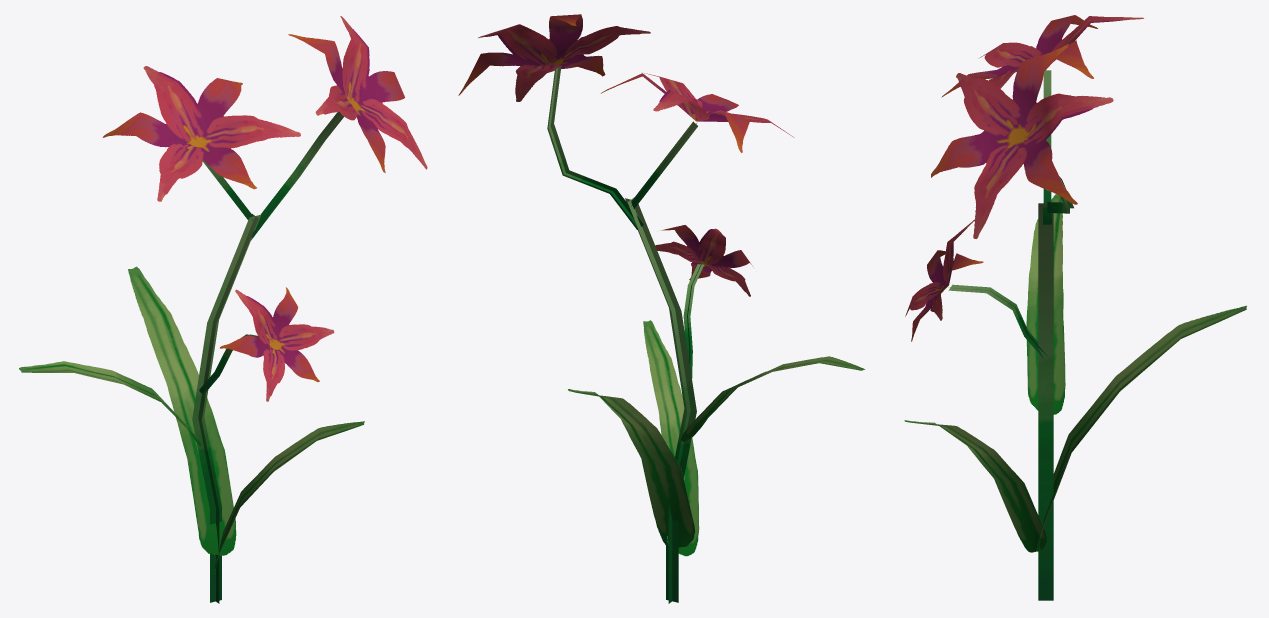
Rendered from SM_FireFlowers_Solo.fbx.
3 views of the same model, side by side, from view 1: azimuth 30°, elevation 25°; view 2: azimuth 150°, elevation 25°; view 3: azimuth 270°, elevation 25° (orthographic). The views are drawn at different scales.
Parts seen in each view (by area): view 1: Firesolo; view 2: Firesolo; view 3: Firesolo.
Part boxes in pixels (bbox=[...]): Firesolo: bbox=[19, 16, 427, 603]; Firesolo: bbox=[458, 14, 865, 603]; Firesolo: bbox=[904, 15, 1246, 600].
Size of the model in its own units: 90.25 by 120 by 64.26.
Materials: 1 (1 with a texture image).
